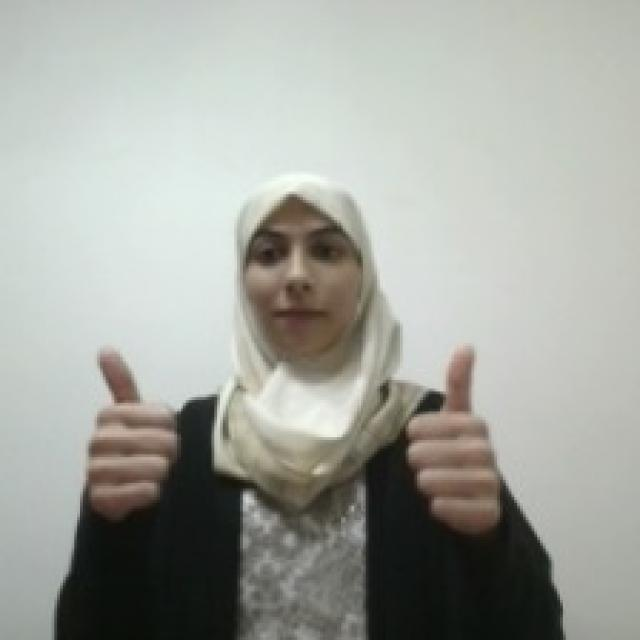fine: (404, 338, 507, 532), (81, 338, 182, 522)
